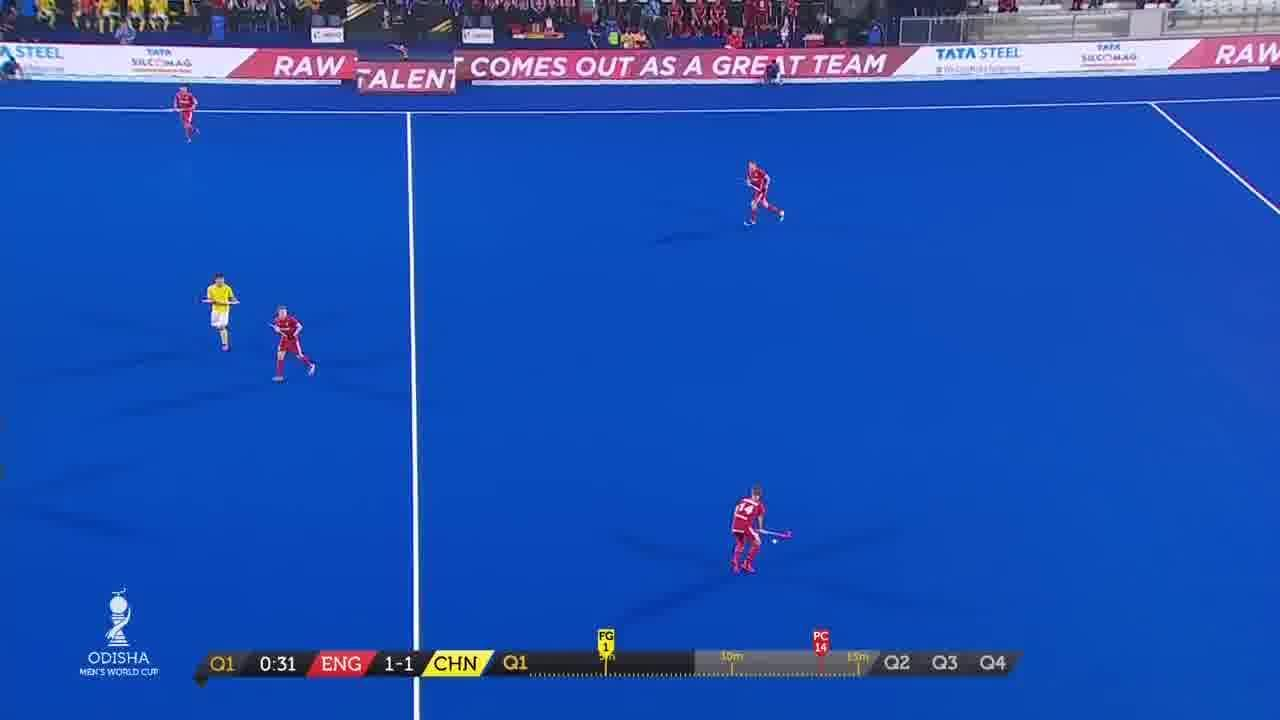ball: (770, 536, 780, 546)
